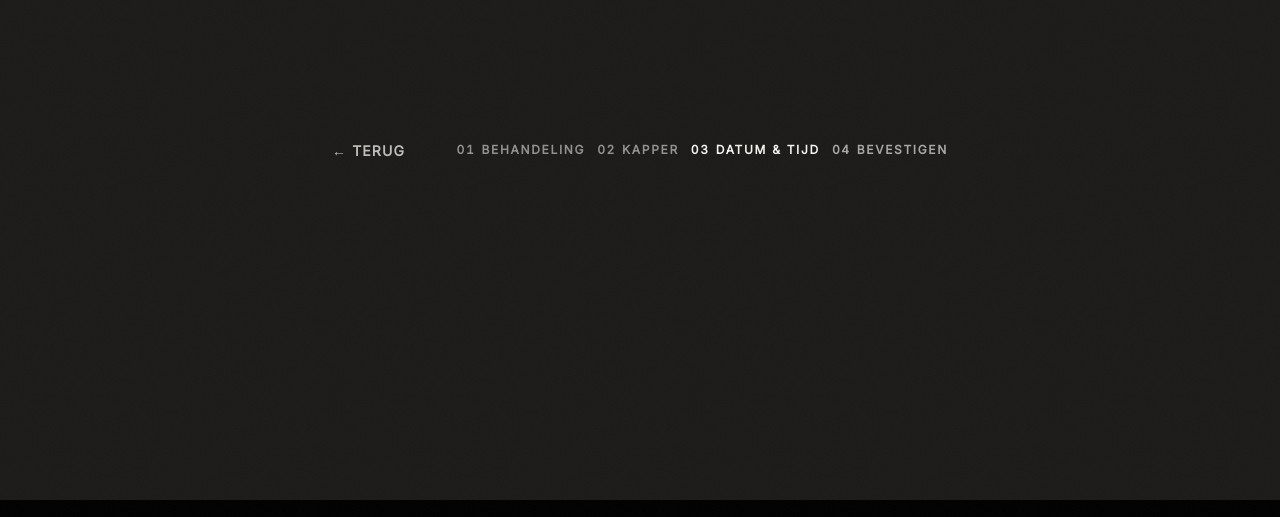
Test case: booking confirmation with isolated Salonhub responses › drops a late day list when the customer goes back
Earlier steps of the test are not shown.
Click the button "← Terug": (369, 150) [332,140,405,161]
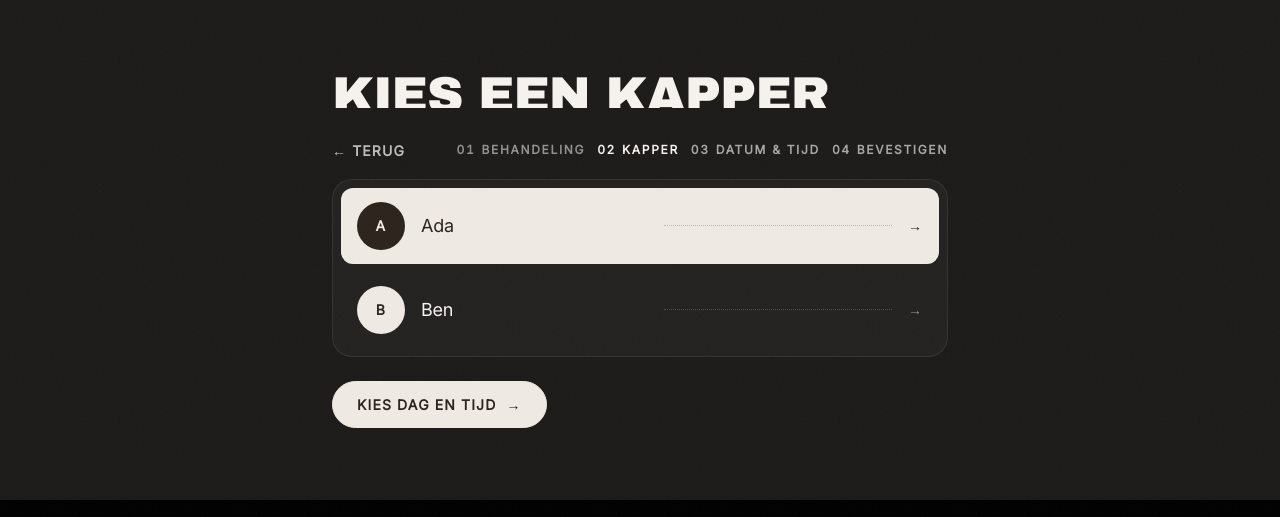
expect the button "Kies dag en tijd →" is shown: met, box [332,381,546,428]
